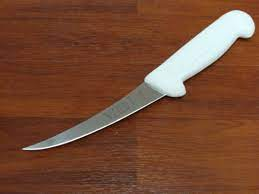knife: (20, 8, 256, 151)
